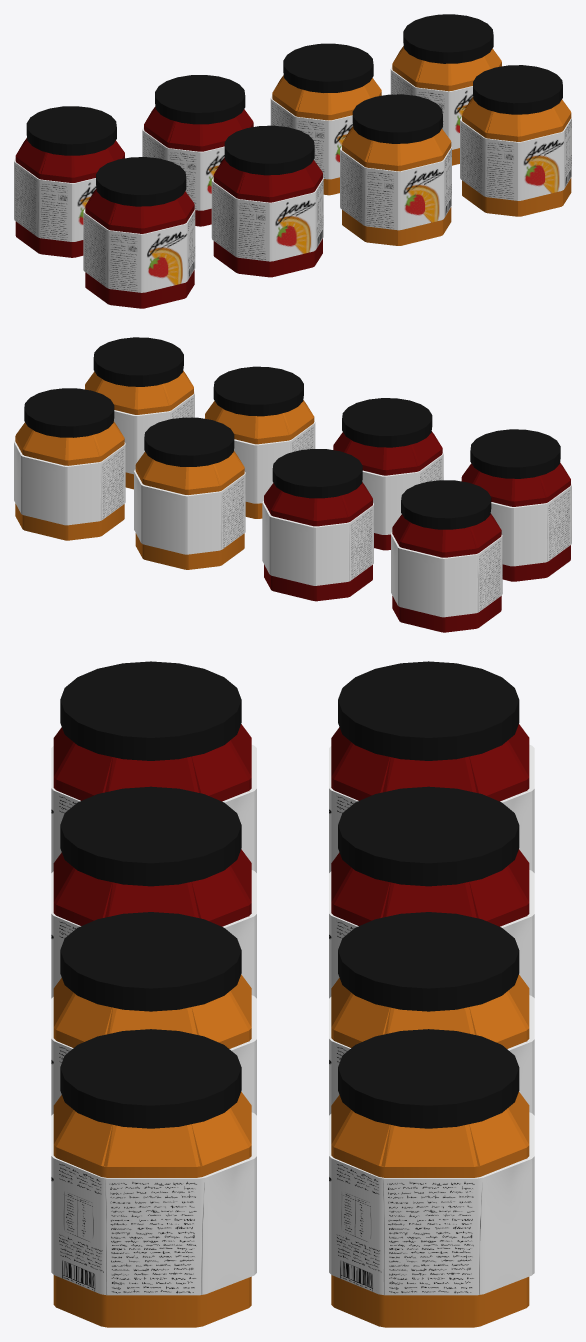
Rendered from jam.fbx.
3 renders of one model, top to bottom at view 1: azimuth 30°, elevation 25°; view 2: azimuth 150°, elevation 25°; view 3: azimuth 270°, elevation 25°, orthographic. The views are drawn at different scales.
Parts seen in each view (by area): view 1: Label.002, Label, Label.004, Label.006, JamJar6, JamJar, JamJar2, JamJar4, Label.001, Lid.001, Lid.004, Lid.007 (+12 smaller); view 2: Label.001, Label.005, Label.007, Label.003, JamJar7, JamJar1, JamJar5, JamJar3, Label, Lid.005, Lid, Lid.003 (+12 smaller); view 3: Label.007, Label.006, JamJar6, JamJar7, Lid.007, Lid.004, Lid.001, Lid.005, Lid, Lid.006, Lid.003, Lid.002 (+12 smaller).
Part boxes in pixels (x1,y1,x2,y2): Label.002: (211,177,323,261); Label: (83,208,195,292); Label.004: (340,146,451,230); Label.006: (460,116,571,200); JamJar6: (462,96,571,216); JamJar: (85,188,194,308); JamJar2: (213,157,322,277); JamJar4: (342,126,451,245); Label.001: (14,158,125,241); Lid.001: (26,106,116,155); Lid.004: (352,94,442,143); Lid.007: (403,14,493,63); Label.001: (391,532,502,617); Label.005: (134,469,245,554); Label.007: (14,440,125,525); Label.003: (262,501,373,585); JamJar7: (15,421,124,540); JamJar1: (392,513,501,632); JamJar5: (135,451,244,569); JamJar3: (264,482,372,601); Label: (490,483,571,566); Lid.005: (144,417,234,466); Lid: (470,429,560,478); Lid.003: (272,449,362,498); Label.007: (329,1112,534,1295); Label.006: (51,1112,256,1295); JamJar6: (53,1091,251,1327); JamJar7: (331,1092,529,1327); Lid.007: (338,1029,519,1128); Lid.004: (60,912,241,1011); Lid.001: (338,661,519,760); Lid.005: (338,912,519,1011); Lid: (60,661,241,760); Lid.006: (60,1029,241,1128); Lid.003: (338,786,519,886); Lid.002: (60,786,241,886).
Size of the model in its own units: 51.84 by 11.69 by 23.38.
Materials: 4 (4 with a texture image).
